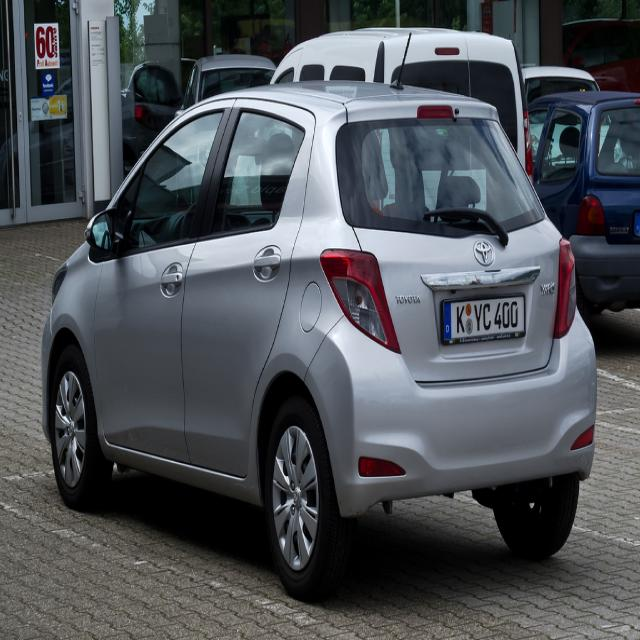car: (44, 29, 595, 596)
